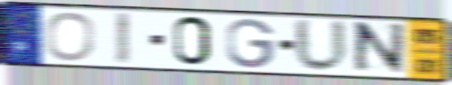0: (171, 14, 214, 68)
G: (225, 17, 277, 70)
I: (113, 11, 132, 66)
N: (351, 20, 407, 76)
O: (44, 11, 97, 63)
U: (291, 17, 351, 75)
